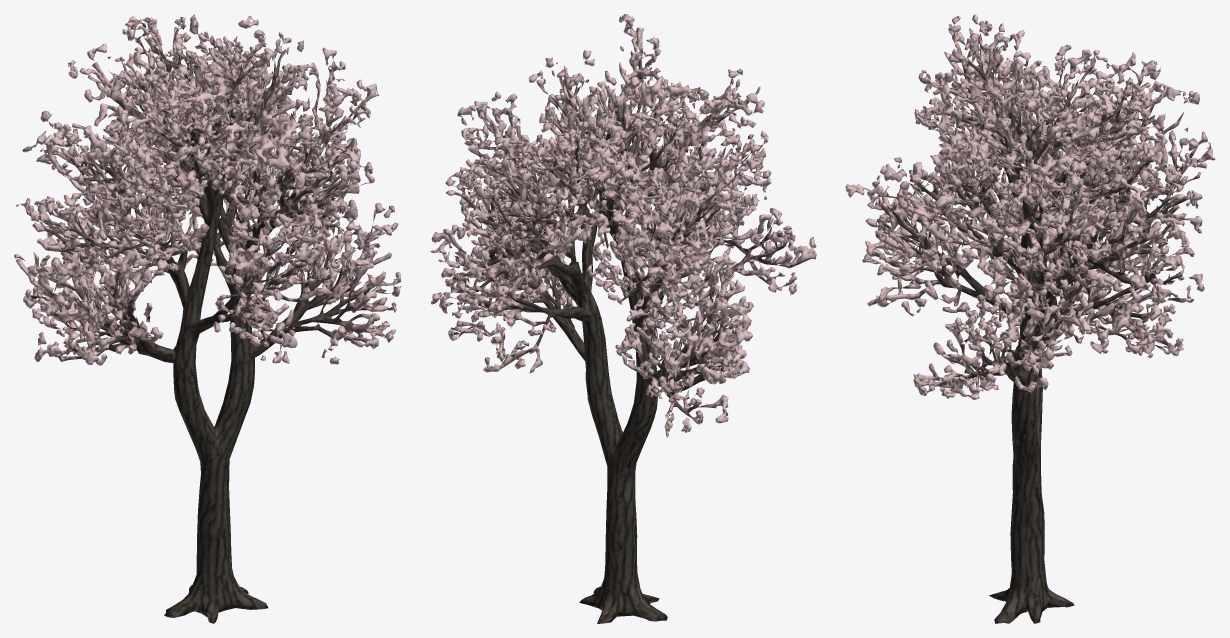
File: sakura_b.0.glb
3 renders of one model, left to right at view 1: azimuth 30°, elevation 25°; view 2: azimuth 150°, elevation 25°; view 3: azimuth 270°, elevation 25°, orthographic. The views are drawn at different scales.
Visible parts, largest first — view 1: geometry_0; view 2: geometry_0; view 3: geometry_0.
Boxes of the visible parts, x1,y1,x2,y2 form: geometry_0: (14, 14, 401, 623); geometry_0: (430, 14, 816, 623); geometry_0: (845, 14, 1215, 623).
Size of the model in its own units: 0.6038 by 0.9941 by 0.5662.
1 material, 1 textured.
